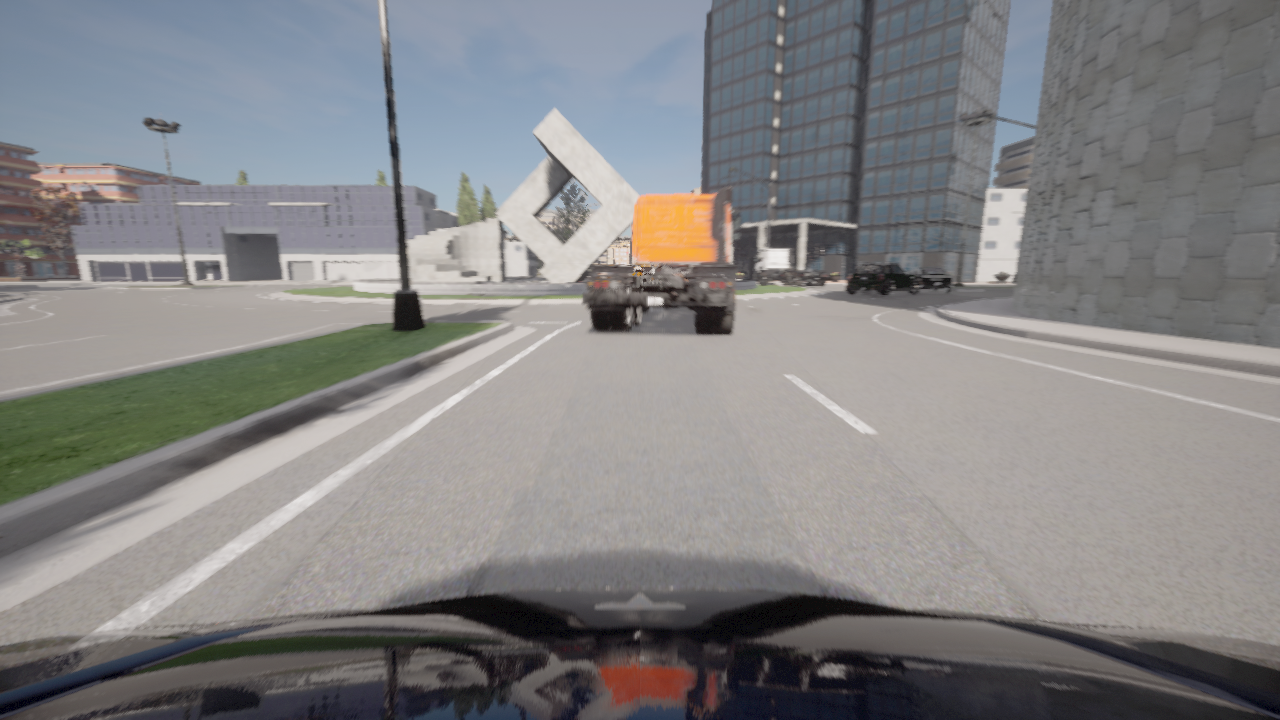cyclist: (0, 588, 1279, 719), (583, 188, 740, 334), (754, 247, 830, 286), (846, 261, 919, 296), (911, 267, 952, 293)
